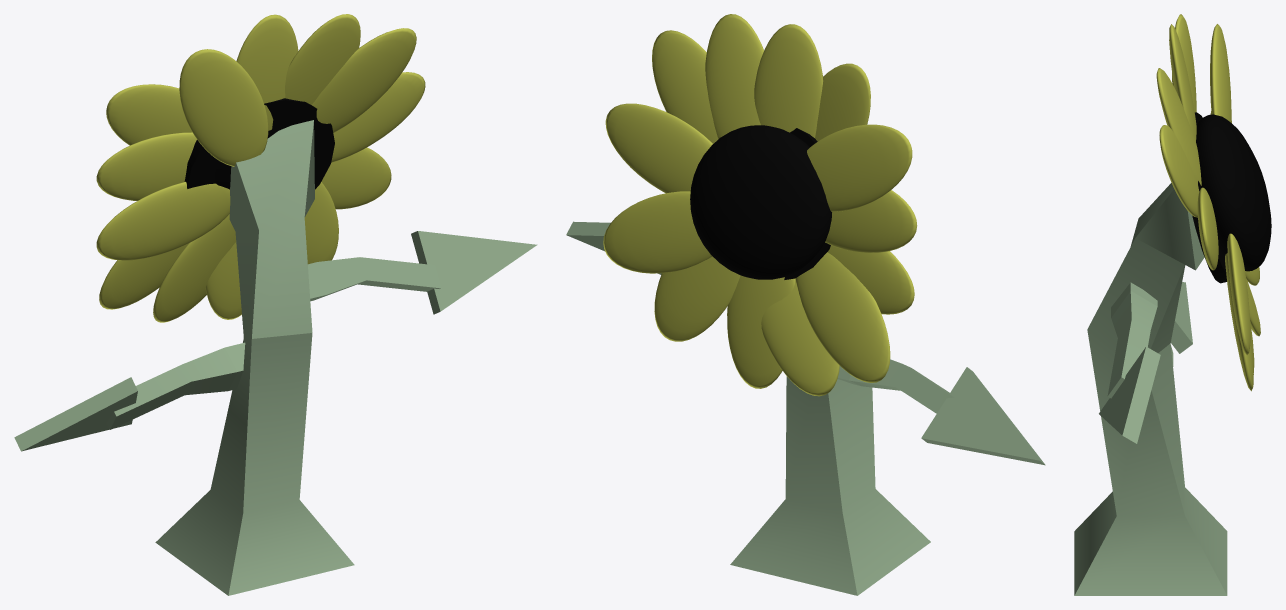
File: SunFlower.fbx
The picture shows the model from 3 angles, left to right: view 1: azimuth 30°, elevation 25°; view 2: azimuth 150°, elevation 25°; view 3: azimuth 270°, elevation 25°; orthographic projection. The views are drawn at different scales.
Parts seen in each view (by area): view 1: pCube1, pSphere14, pSphere4, pSphere2, pCube4, pSphere9, pCube5, pSphere7, pSphere8, pCube2, pSphere10, pSphere5 (+7 smaller); view 2: pCube1, pSphere1, pSphere3, pSphere10, pSphere12, pSphere13, pSphere5, pCube6, pSphere8, pSphere11, pSphere7, pSphere2 (+6 smaller); view 3: pCube1, pSphere1, pCube2, pCube4, pSphere2, pSphere8, pSphere12, pSphere10, pSphere5, pSphere13, pCube6, pSphere14 (+3 smaller).
Part boxes in pixels (x1,y1,x2,y2): pCube1: (155, 120, 354, 595); pSphere14: (179, 49, 268, 166); pSphere4: (96, 181, 230, 260); pSphere2: (312, 28, 416, 132); pCube4: (411, 231, 537, 314); pSphere9: (96, 132, 196, 200); pCube5: (106, 342, 245, 429); pSphere7: (153, 214, 236, 322); pSphere8: (285, 14, 360, 104); pCube2: (308, 257, 440, 301); pSphere10: (106, 84, 192, 145); pSphere5: (236, 14, 298, 130); pCube1: (730, 376, 930, 595); pSphere1: (690, 125, 831, 279); pSphere3: (795, 252, 890, 382); pSphere10: (807, 124, 912, 211); pSphere12: (603, 191, 712, 273); pSphere13: (605, 103, 712, 193); pSphere5: (754, 24, 823, 137); pCube6: (921, 367, 1045, 465); pSphere8: (705, 14, 763, 138); pSphere11: (654, 256, 740, 341); pSphere7: (761, 278, 839, 396); pSphere2: (652, 30, 718, 143); pCube1: (1074, 183, 1227, 595); pSphere1: (1196, 114, 1271, 271); pCube2: (1107, 282, 1157, 398); pCube4: (1099, 346, 1160, 443); pSphere2: (1159, 125, 1199, 217); pSphere8: (1156, 68, 1201, 185); pSphere12: (1227, 233, 1250, 355); pSphere10: (1210, 24, 1231, 122); pSphere5: (1169, 24, 1196, 141); pSphere13: (1197, 187, 1218, 270); pCube6: (1170, 282, 1192, 353); pSphere14: (1172, 14, 1196, 112).
Bounding box in the file's own units: 4.55 × 4.63 × 1.5.
